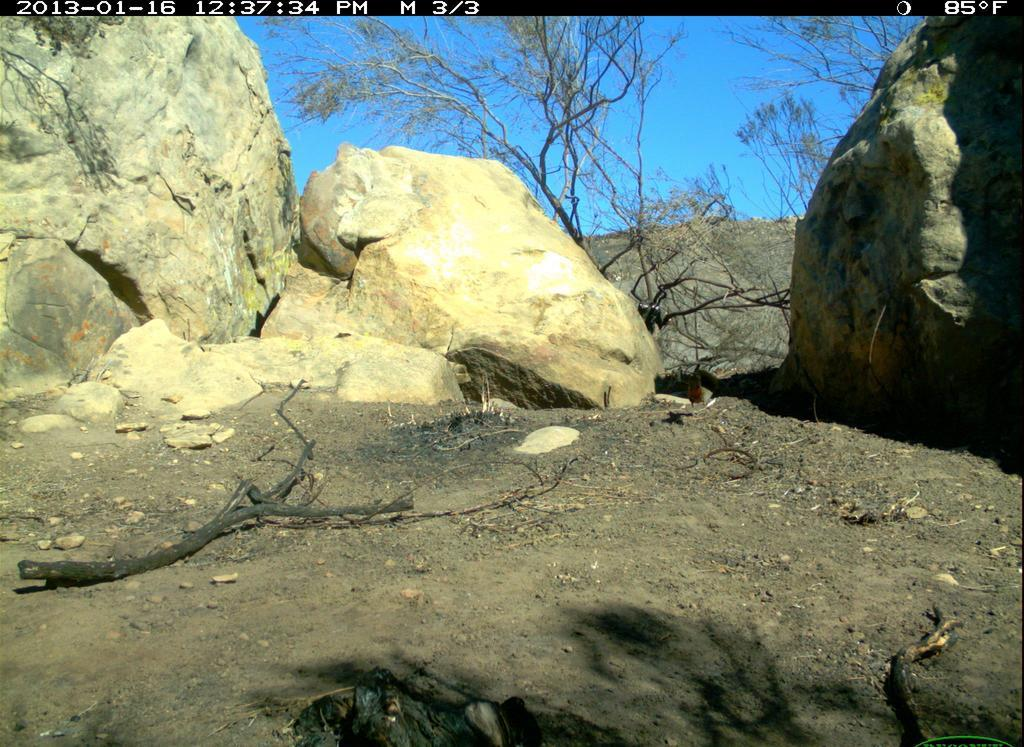bird: (676, 361, 735, 413)
